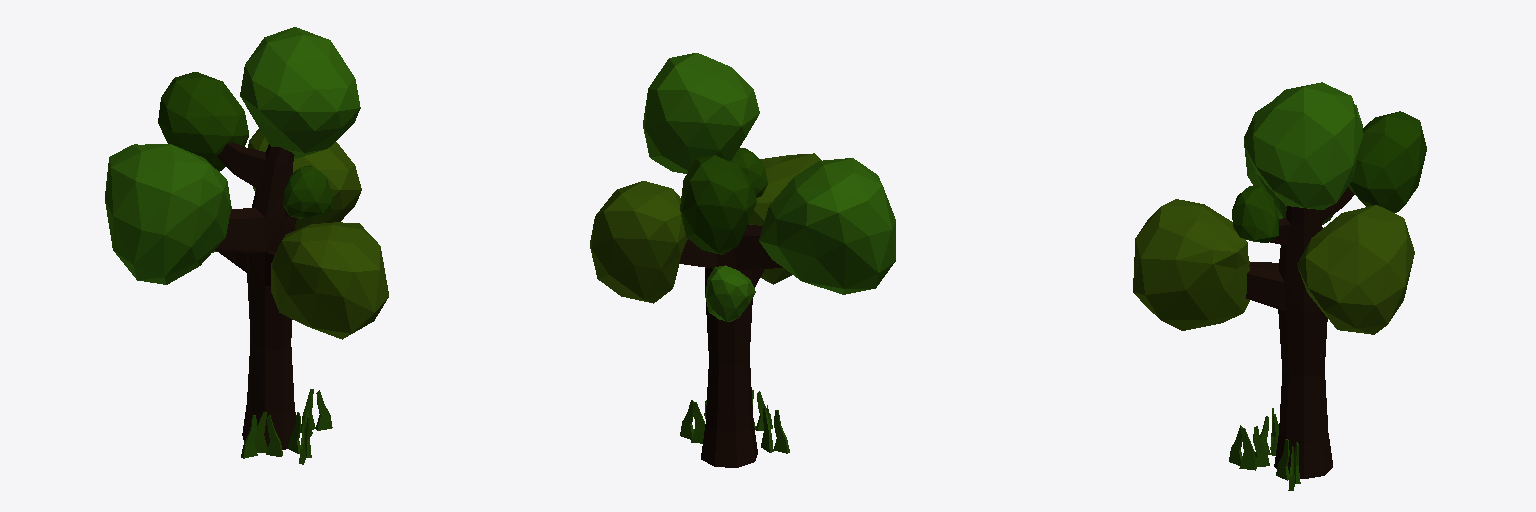
The model's file is tree.obj.
The picture shows the model from 3 angles: view 1: azimuth 30°, elevation 25°; view 2: azimuth 150°, elevation 25°; view 3: azimuth 270°, elevation 25°; orthographic projection.
Parts seen in each view (by area): view 1: Cylinder.006, Cube.031, Cube.029, Cube.030; view 2: Cylinder.006, Cube.031, Cube.030; view 3: Cylinder.006, Cube.029, Cube.030.
Boxes of the visible parts, <box> form: Cylinder.006: <box>105,27,388,449</box>; Cube.031: <box>241,412,282,458</box>; Cube.029: <box>288,412,311,464</box>; Cube.030: <box>301,389,332,436</box>; Cylinder.006: <box>590,53,895,467</box>; Cube.031: <box>761,405,789,453</box>; Cube.030: <box>680,400,706,443</box>; Cylinder.006: <box>1133,82,1426,478</box>; Cube.029: <box>1229,425,1269,470</box>; Cube.030: <box>1276,439,1300,490</box>.
Bounding box in the file's own units: 2.18 × 3.08 × 2.08.